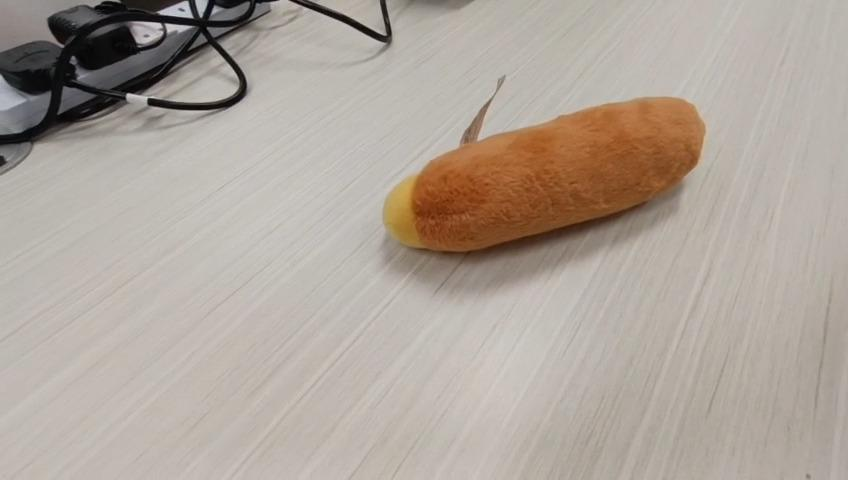hotdog: (381, 75, 706, 253)
